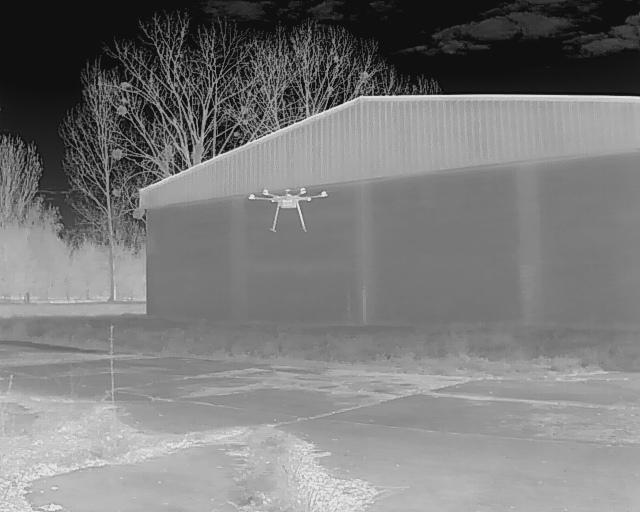drone: (245, 176, 331, 242)
